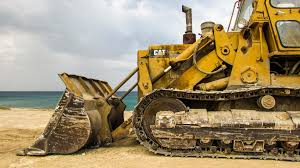bulldozer: (23, 1, 300, 160)
